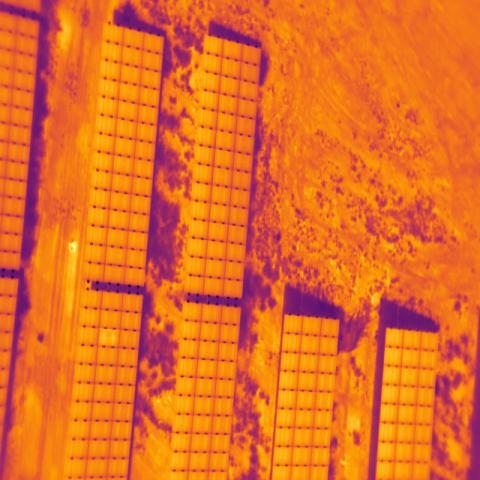fault: (98, 327, 121, 347)
